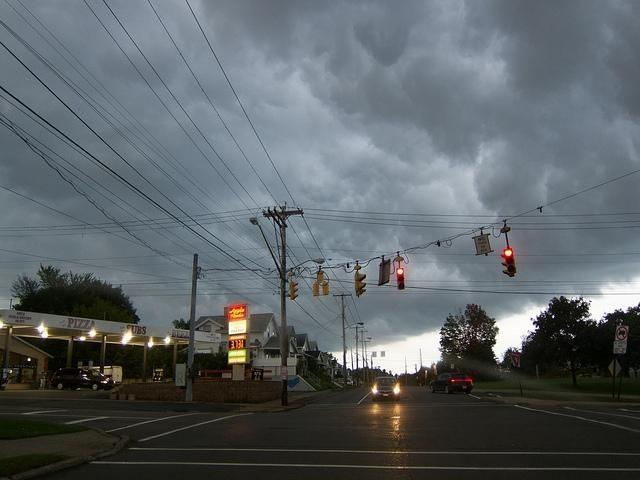car: (429, 373, 474, 394), (372, 377, 400, 400), (334, 377, 353, 386)
truck: (51, 366, 116, 390)
